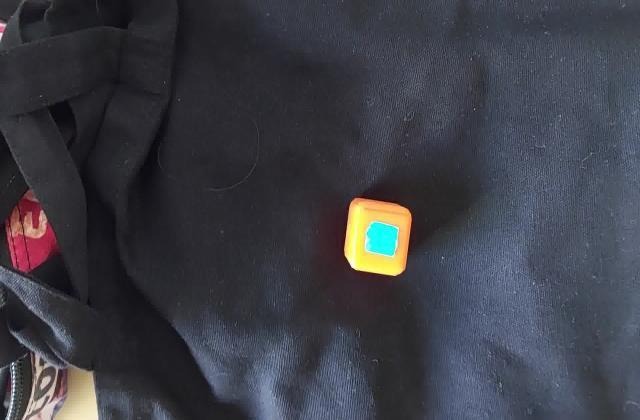blue: (371, 224, 393, 248)
sticker: (340, 193, 414, 281)
